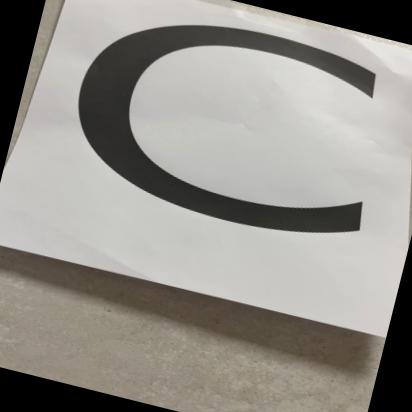seat: (10, 0, 412, 329)
